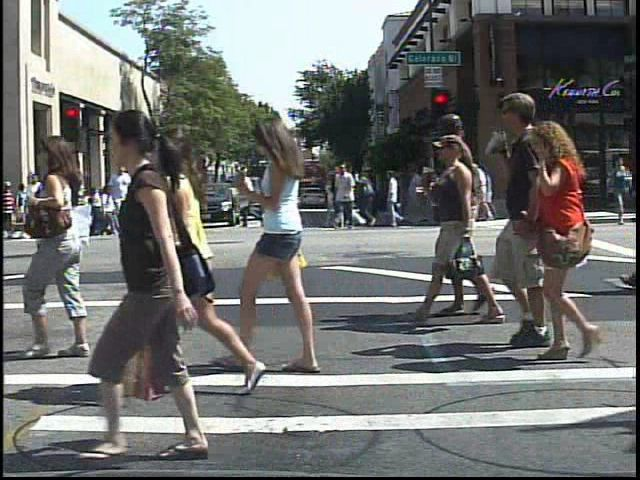person: (78, 99, 235, 468), (145, 119, 276, 399), (457, 82, 562, 353), (235, 110, 339, 376), (12, 129, 112, 364), (531, 122, 623, 365), (106, 161, 141, 242), (62, 163, 92, 242), (468, 158, 499, 230), (23, 167, 49, 242), (4, 174, 19, 241), (97, 179, 117, 224)
